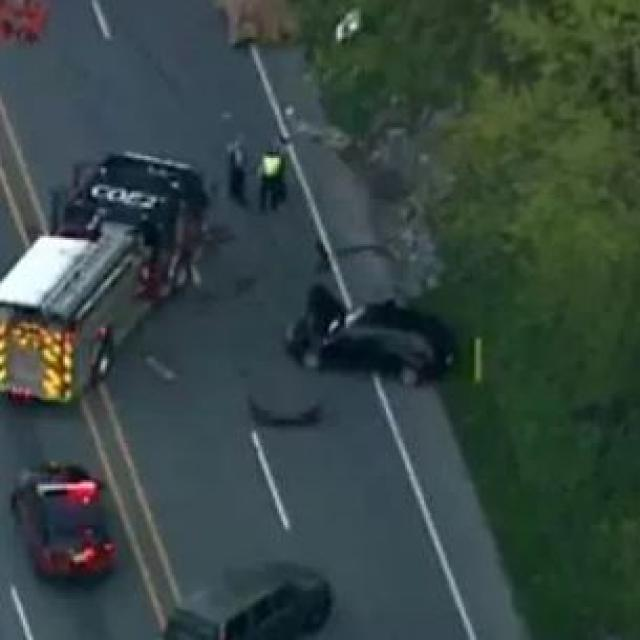traffic_incident: (266, 283, 458, 390)
